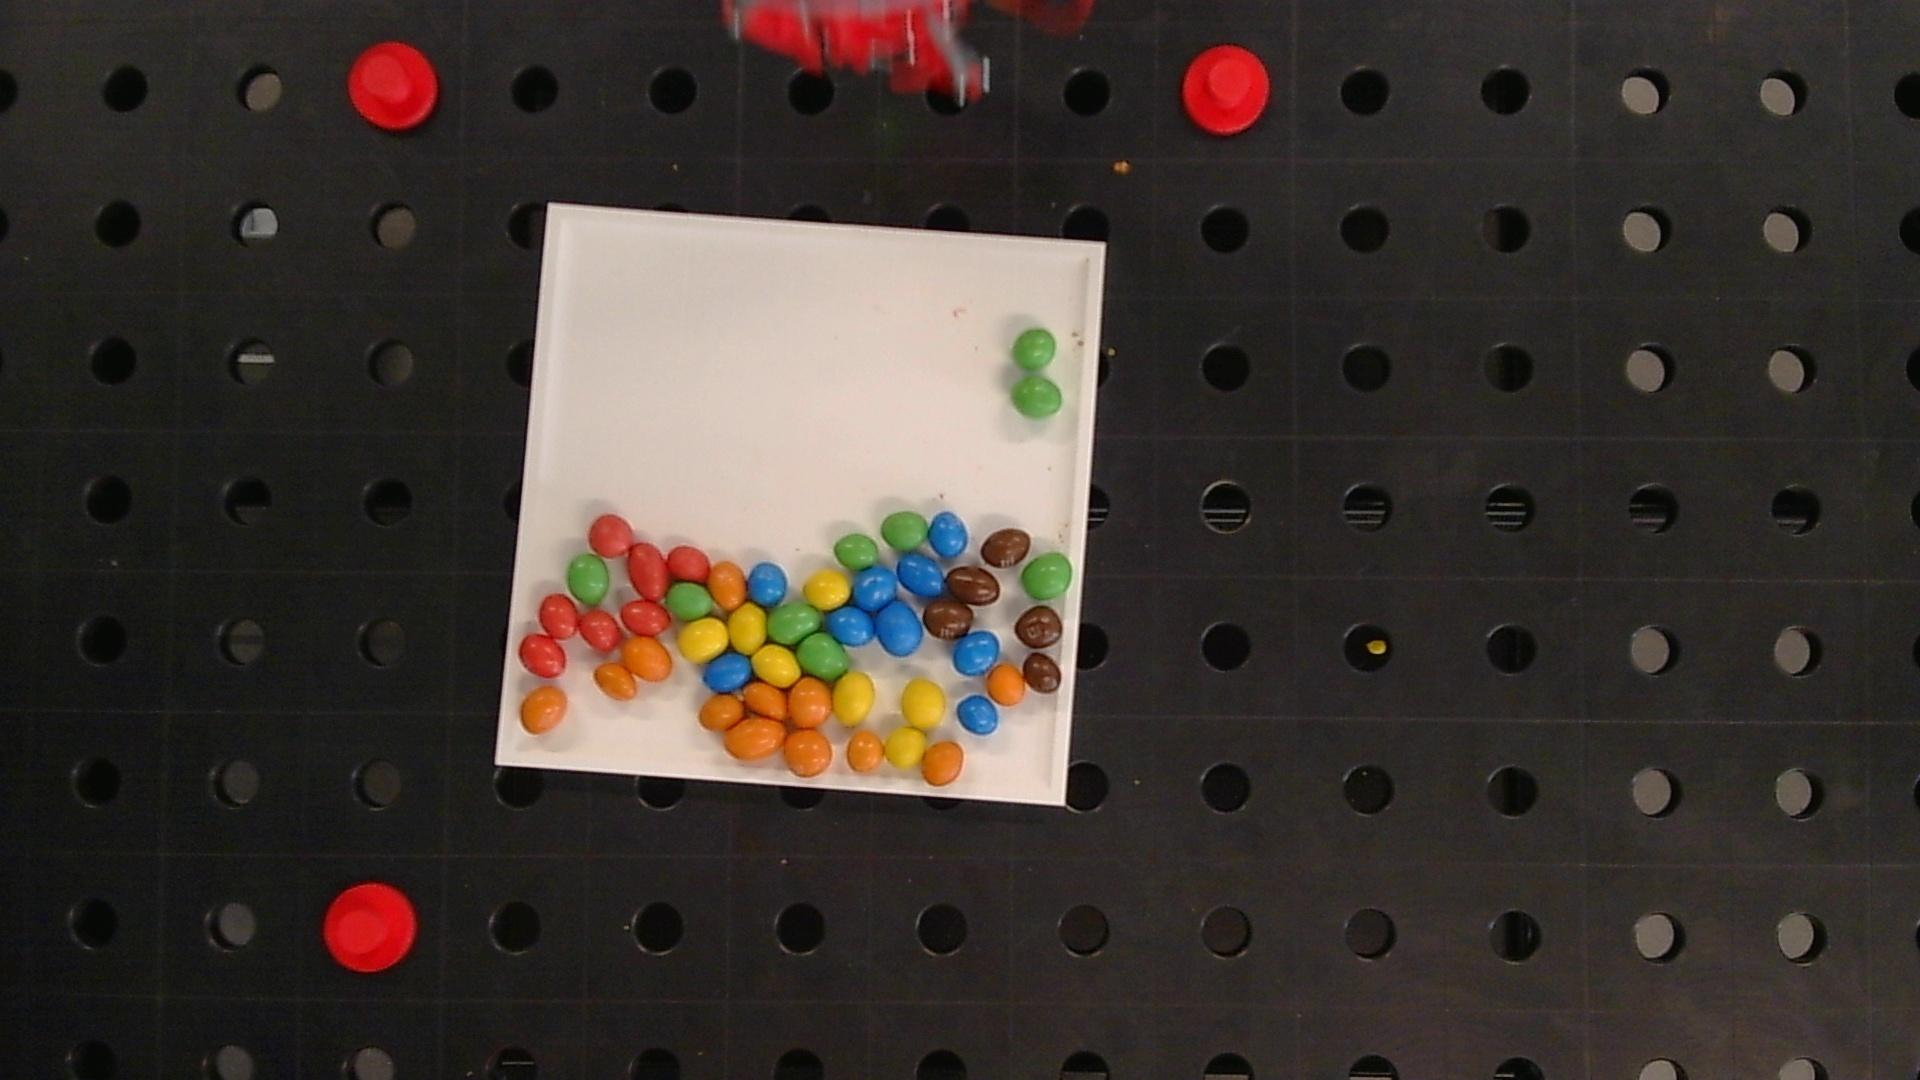blue: (877, 601, 923, 655), (953, 632, 1000, 675), (898, 554, 944, 596), (703, 653, 752, 692), (853, 568, 898, 611), (827, 608, 876, 646), (927, 512, 968, 556), (748, 562, 787, 604), (957, 695, 998, 735)
brown: (945, 566, 1000, 605), (1015, 605, 1063, 649), (980, 527, 1031, 567), (923, 600, 972, 640), (1023, 653, 1062, 694)
green: (798, 633, 848, 679), (1021, 554, 1072, 599), (1011, 376, 1064, 418), (767, 603, 822, 644), (567, 554, 609, 605), (1011, 328, 1056, 369), (881, 512, 928, 550), (835, 533, 878, 570), (669, 583, 712, 620)
orange: (724, 716, 786, 758), (621, 636, 673, 680), (521, 686, 568, 733), (783, 731, 832, 775), (789, 679, 832, 727), (922, 742, 964, 786), (709, 560, 746, 608), (595, 662, 637, 700), (745, 682, 787, 720), (845, 731, 884, 771), (988, 665, 1026, 705), (700, 694, 742, 731)
red: (629, 542, 669, 600), (520, 634, 567, 678), (588, 513, 633, 556), (539, 593, 578, 638), (621, 600, 670, 634), (578, 611, 620, 650), (667, 545, 711, 580)
yellow: (678, 617, 728, 662), (901, 680, 945, 729), (835, 673, 874, 725), (804, 571, 852, 609), (729, 604, 766, 653), (754, 646, 799, 684), (885, 727, 924, 767)
